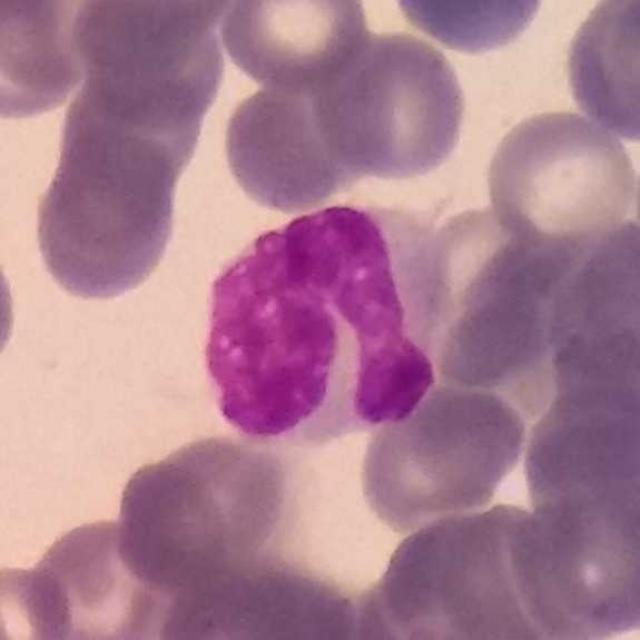mono: (202, 187, 459, 444)
